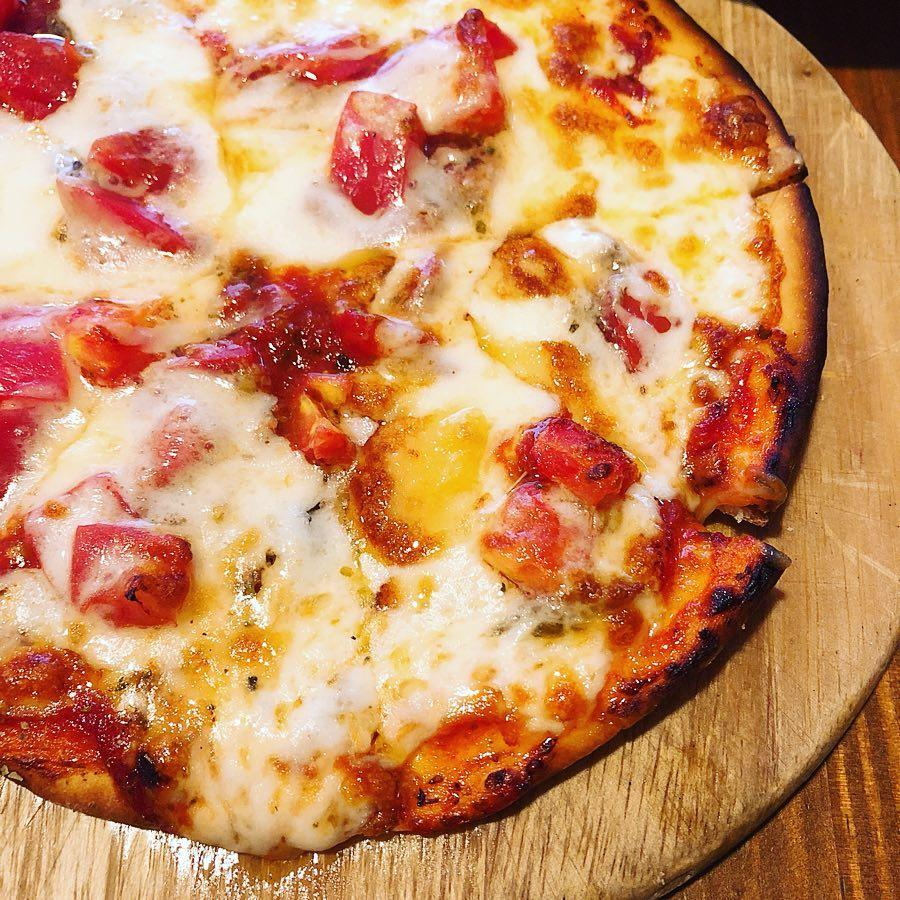Pizza: (0, 0, 829, 841)
Tomatoes: (191, 273, 375, 467), (53, 113, 199, 257), (401, 11, 512, 141), (561, 251, 664, 379), (66, 528, 189, 624), (478, 491, 565, 610), (521, 413, 635, 500), (336, 91, 415, 211), (216, 36, 402, 82), (1, 311, 69, 429), (0, 6, 66, 122), (73, 301, 159, 382)
